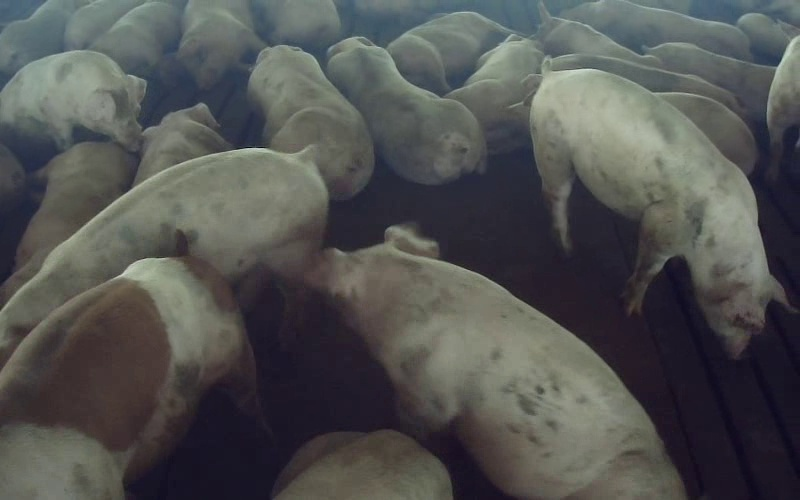pig: (307, 226, 683, 499), (530, 59, 786, 355), (0, 147, 327, 367), (0, 257, 257, 499), (327, 38, 485, 184), (0, 142, 137, 305), (248, 45, 373, 199), (0, 51, 145, 151), (446, 35, 543, 154), (386, 12, 512, 95), (133, 103, 232, 185), (536, 2, 661, 66), (90, 2, 180, 76)
